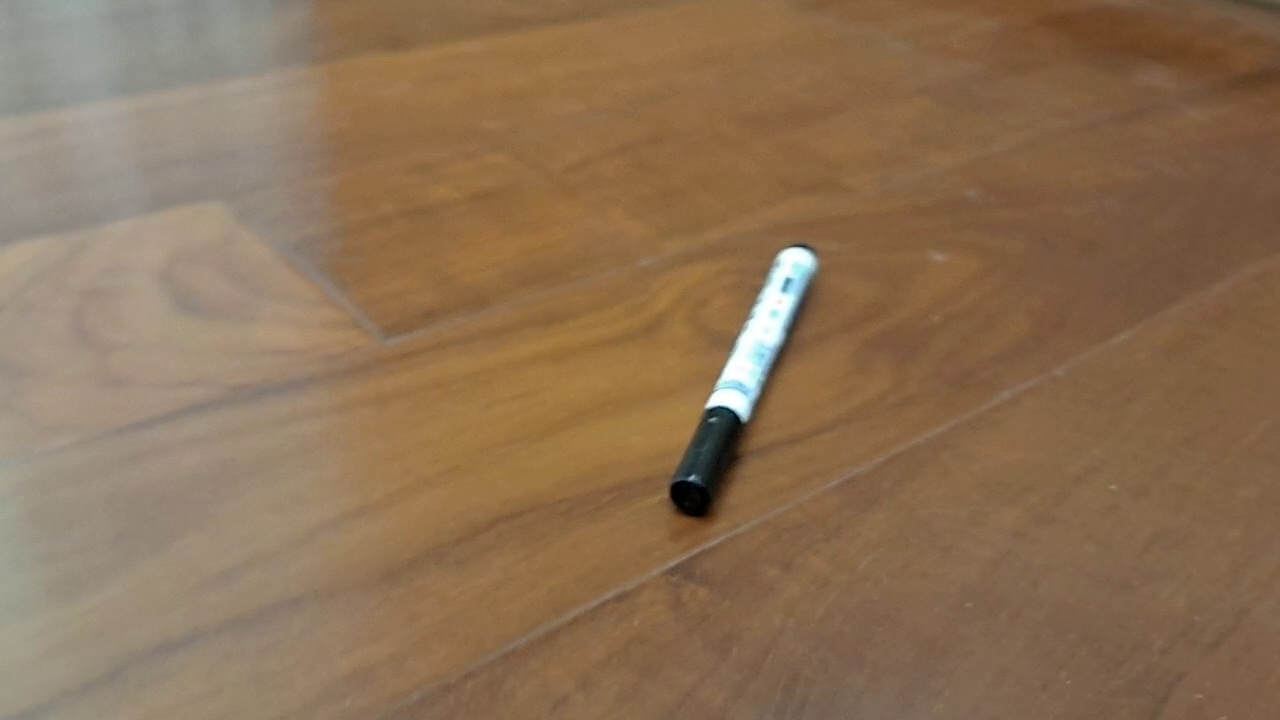pen: (669, 243, 820, 518)
